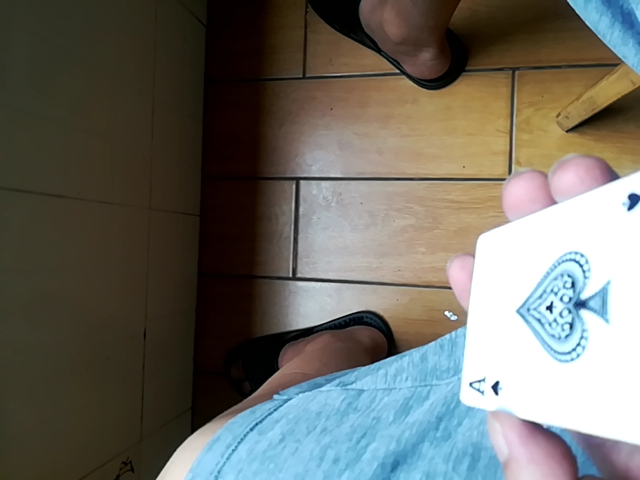ht a: (458, 153, 638, 465)
